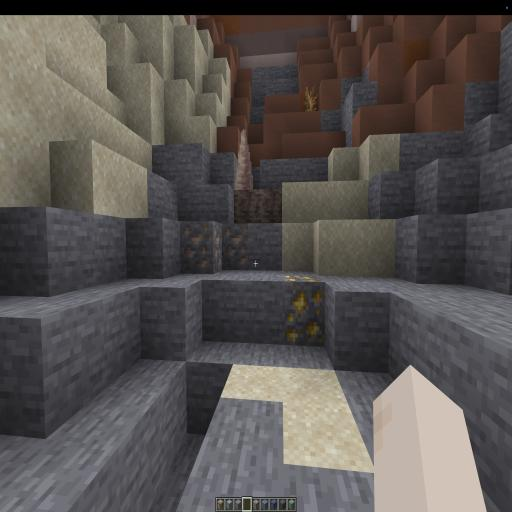gold ore: (283, 272, 327, 348)
iron ore: (181, 218, 253, 275)
